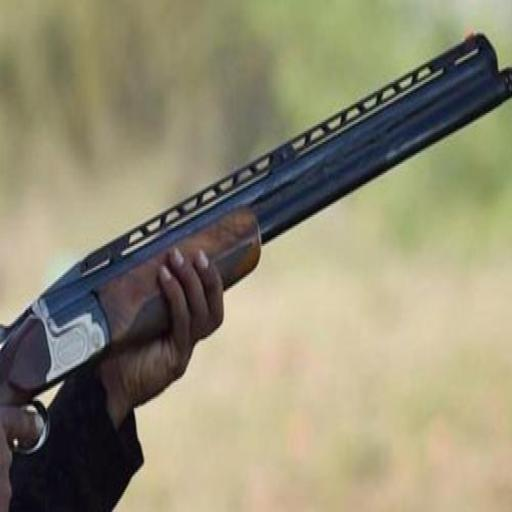shooting: (3, 84, 381, 512)
